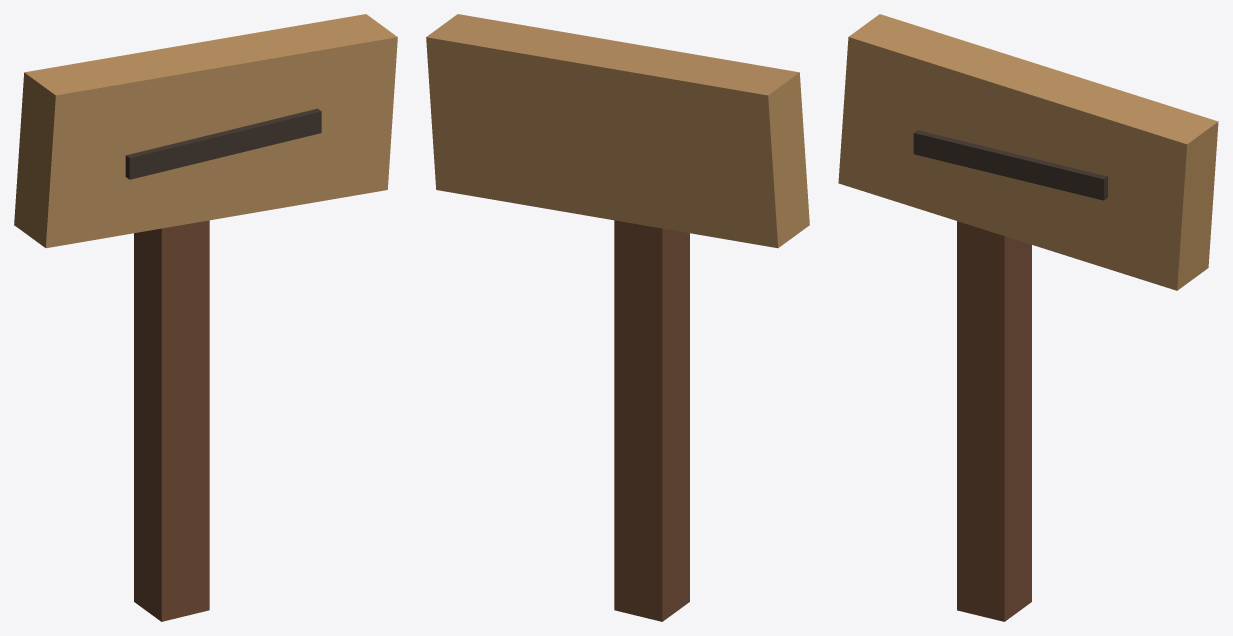
Rendered from signpost.glb.
The picture shows the model from 3 angles, left to right: view 1: azimuth 30°, elevation 25°; view 2: azimuth 150°, elevation 25°; view 3: azimuth 330°, elevation 25°; orthographic projection.
Parts seen in each view (by area): view 1: signpost; view 2: signpost; view 3: signpost.
Part boxes in pixels (x1,y1,x2,y2): signpost: (14, 14, 397, 621); signpost: (426, 14, 809, 621); signpost: (838, 14, 1218, 621).
Size of the model in its own units: 1.03 by 1.54 by 0.18.
